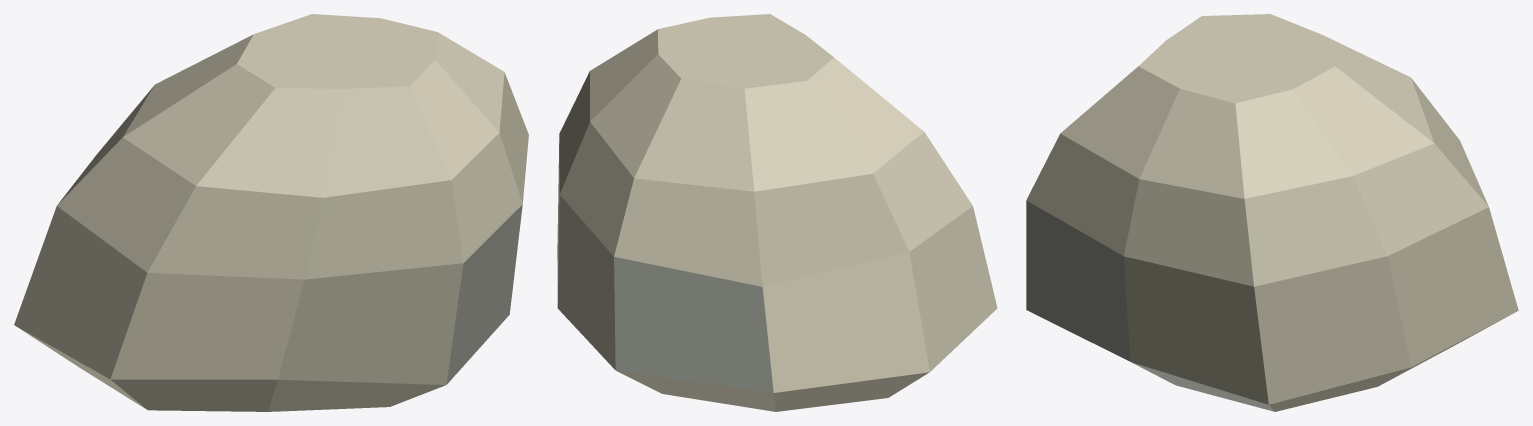
File: reef_small.glb
3 renders of one model, left to right at view 1: azimuth 30°, elevation 25°; view 2: azimuth 150°, elevation 25°; view 3: azimuth 270°, elevation 25°, orthographic. The views are drawn at different scales.
Parts seen in each view (by area): view 1: reef_small; view 2: reef_small; view 3: reef_small.
Boxes of the visible parts, bbox=[...] form: reef_small: bbox=[14, 14, 528, 411]; reef_small: bbox=[557, 14, 997, 411]; reef_small: bbox=[1026, 14, 1518, 411].
Size of the model in its own units: 1.08 by 0.66 by 0.9898.
